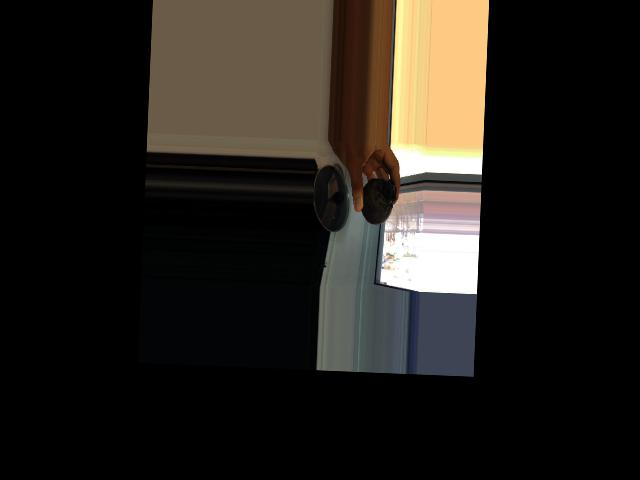beet: (360, 164, 397, 225)
